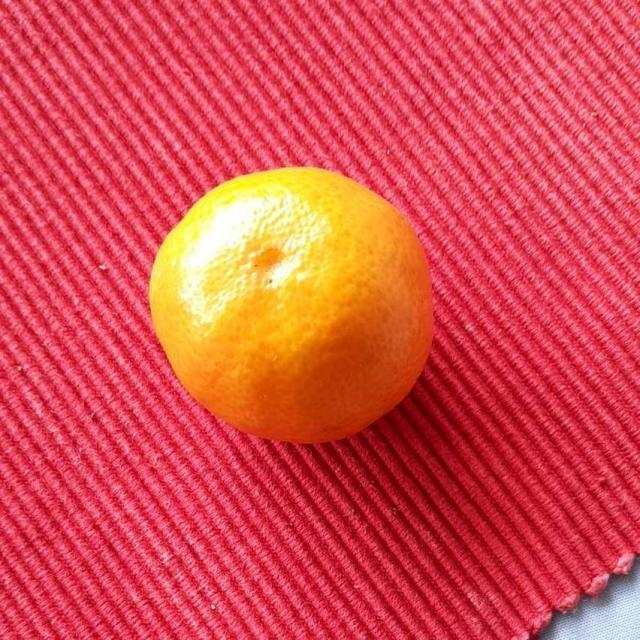mandarine: (149, 169, 437, 443)
